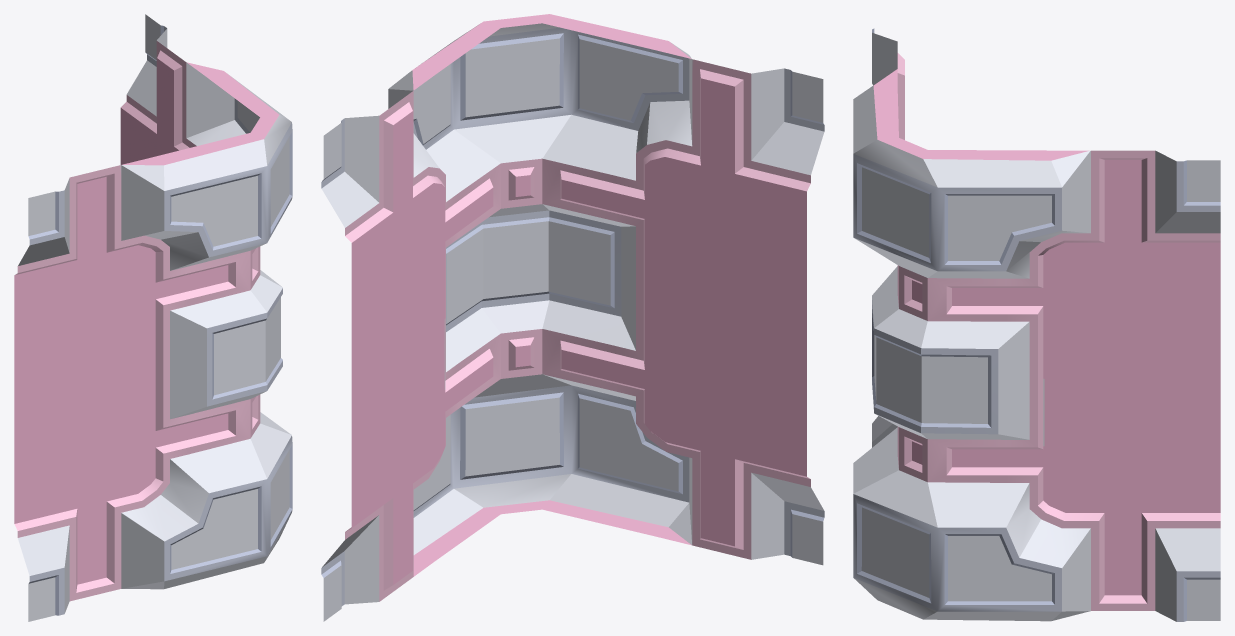
File: WallPanel_CornerOut.fbx
The picture shows the model from 3 angles, left to right: view 1: azimuth 30°, elevation 25°; view 2: azimuth 150°, elevation 25°; view 3: azimuth 270°, elevation 25°; orthographic projection. The views are drawn at different scales.
Visible parts, largest first — view 1: CornerPanelOut1; view 2: CornerPanelOut1; view 3: CornerPanelOut1.
Boxes of the visible parts, <box> form: CornerPanelOut1: <box>14,14,292,621</box>; CornerPanelOut1: <box>321,14,824,621</box>; CornerPanelOut1: <box>853,28,1220,621</box>.
Size of the model in its own units: 260 by 360 by 260.
1 material, 1 textured.
